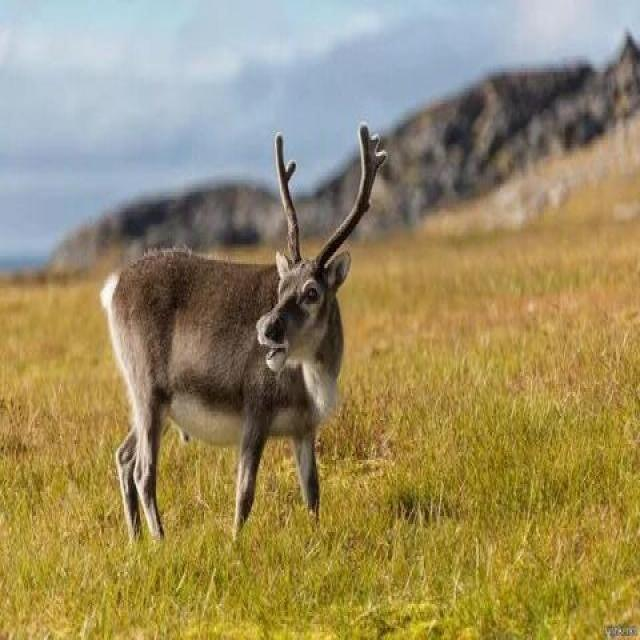deer: (66, 85, 446, 604)
